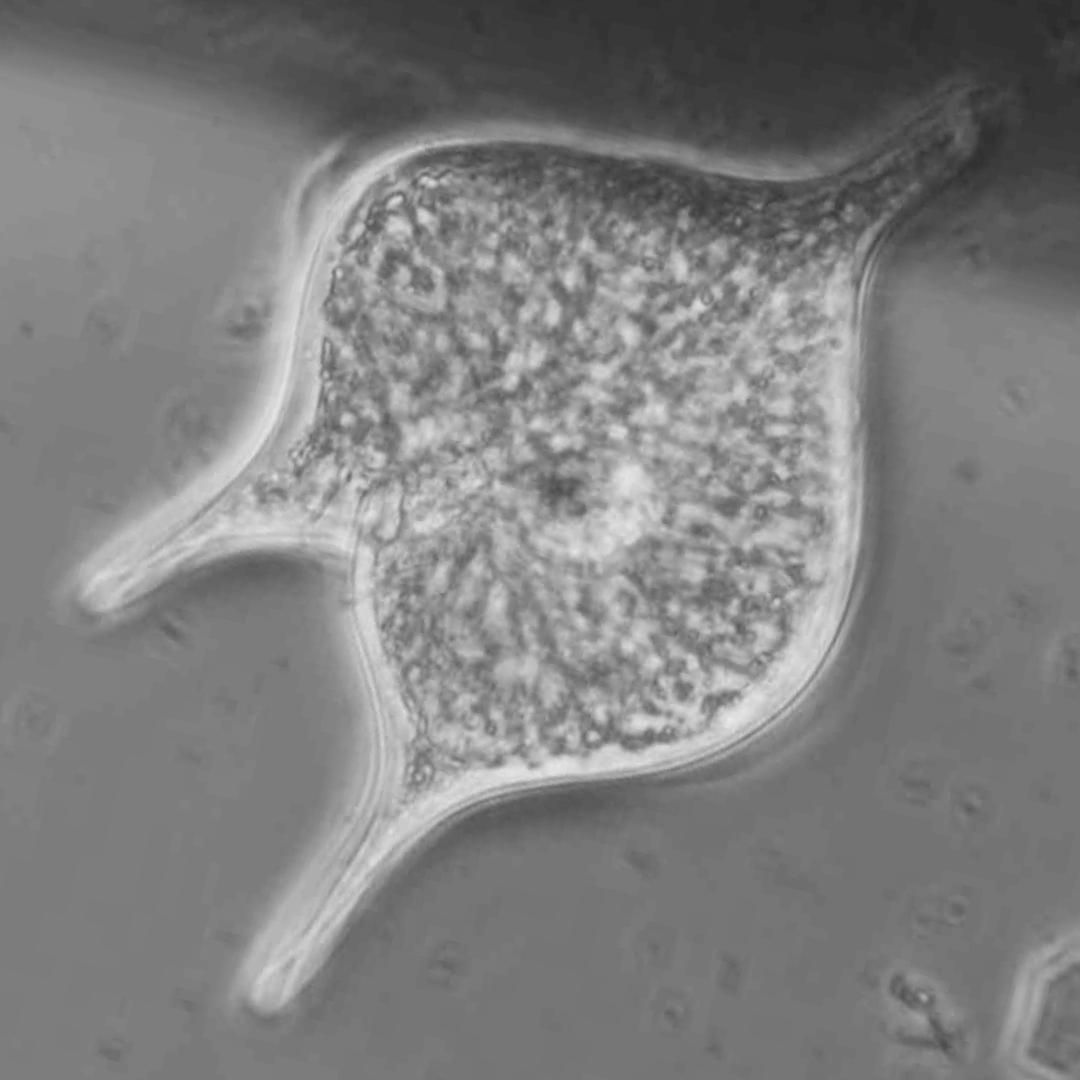protoperidinium_oceanicum: (82, 82, 997, 1016)
